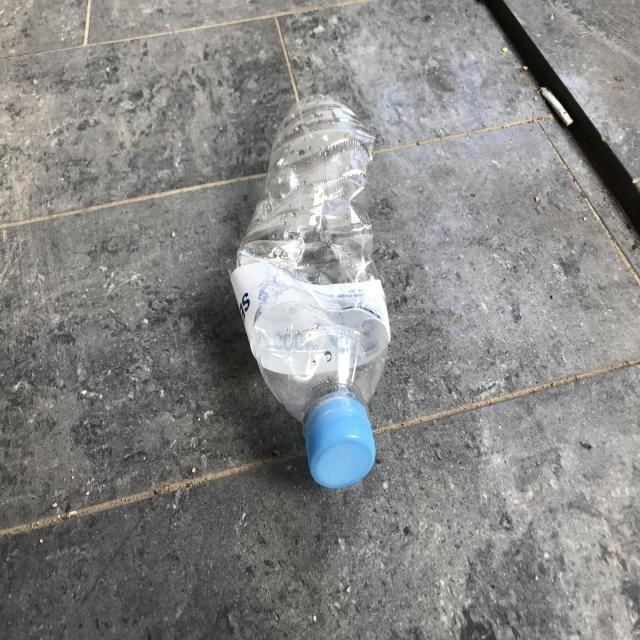plastic: (231, 95, 391, 488)
